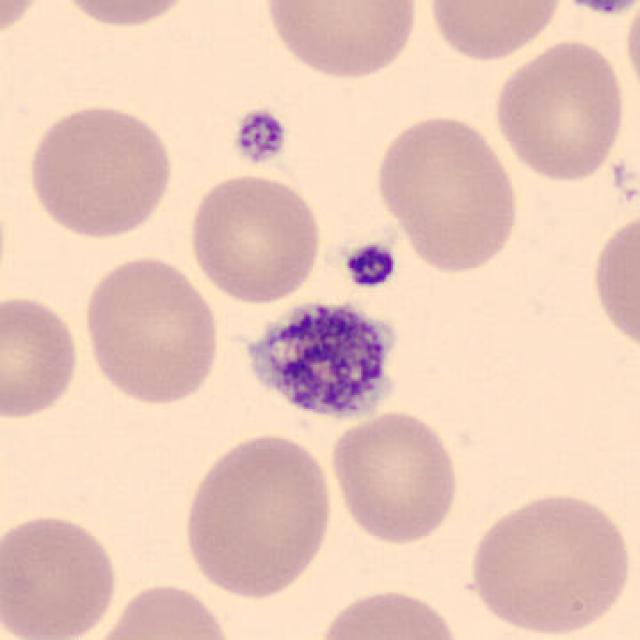Platelets: (233, 289, 405, 429), (228, 106, 290, 167), (340, 240, 400, 291), (556, 0, 638, 18)
RBC: (178, 428, 338, 603), (462, 487, 635, 638), (370, 109, 524, 277), (78, 252, 224, 409), (23, 98, 178, 242), (489, 35, 629, 185), (325, 406, 464, 548), (185, 169, 325, 307), (0, 508, 123, 640), (258, 0, 423, 83), (0, 291, 84, 423), (84, 578, 238, 640), (423, 0, 567, 63), (315, 585, 464, 640), (588, 204, 638, 358), (48, 0, 199, 32), (0, 0, 46, 46), (622, 2, 640, 109)
